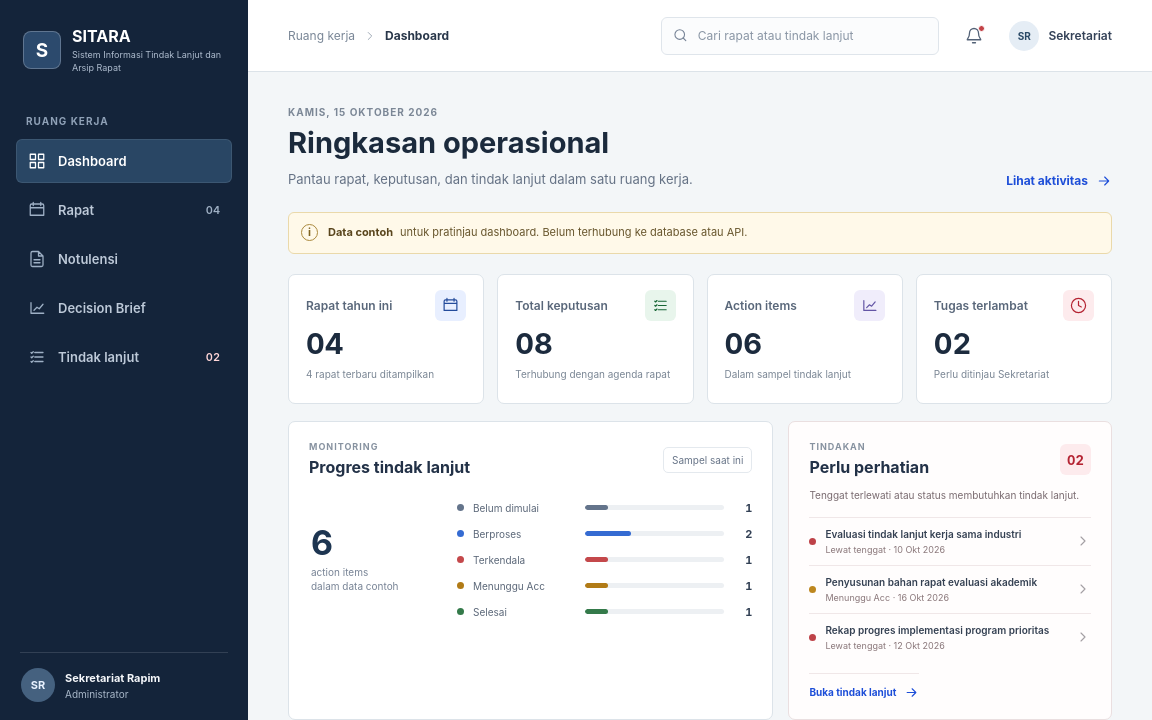
Test: SITARA dashboard › opens the notulensi editor from workspace navigation
Click the link "Notulensi" at (73, 259), box [28,250,118,268]
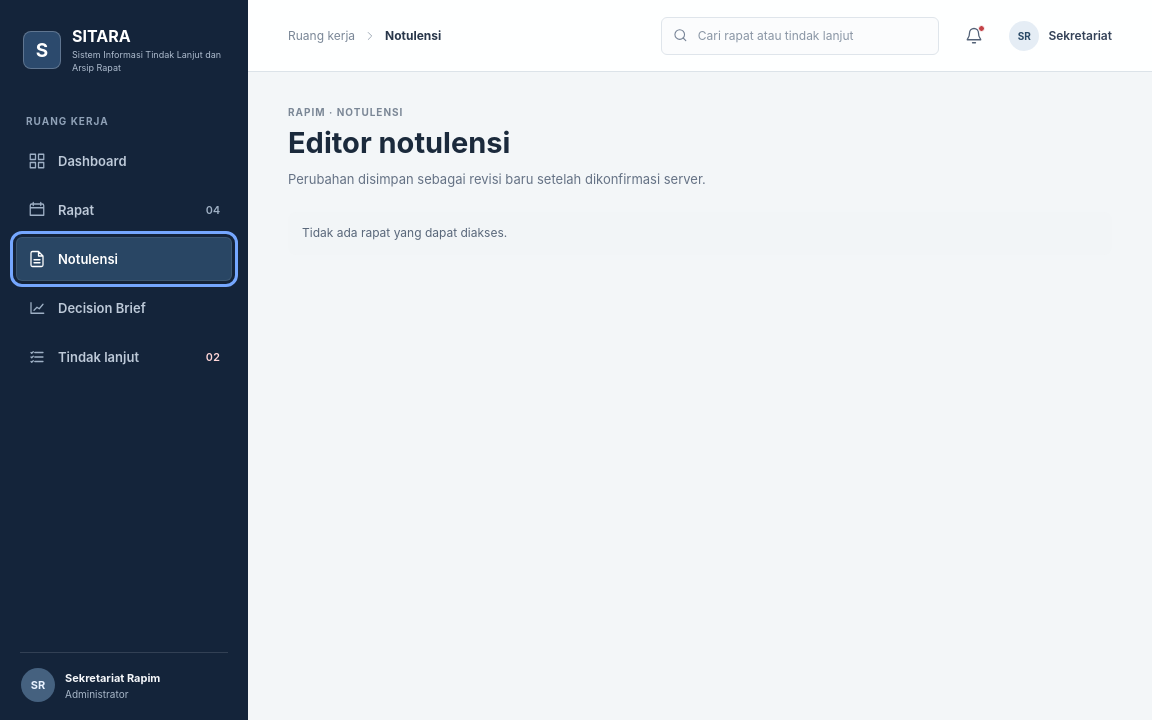
Expected: the heading "Editor notulensi" is shown, [288,125,510,160]
Expected: the text "Tidak ada rapat yang dapat diakses." is shown, [288,212,1112,254]
